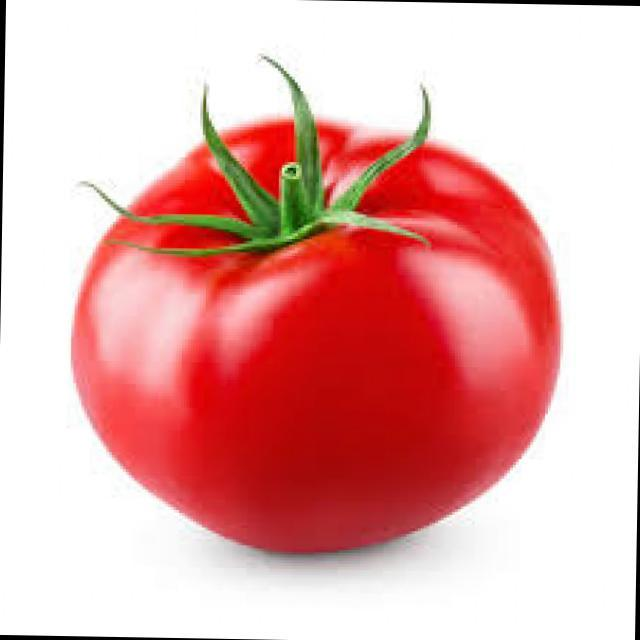kirmizi: (54, 40, 574, 590)
